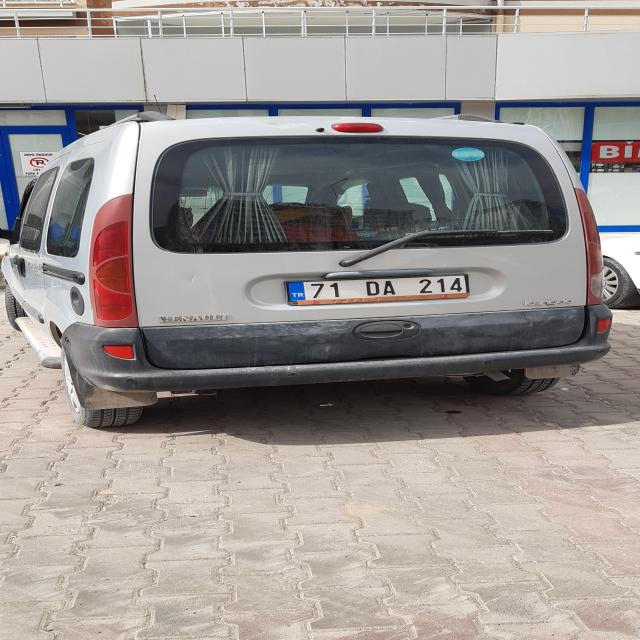plate: (285, 275, 469, 302)
